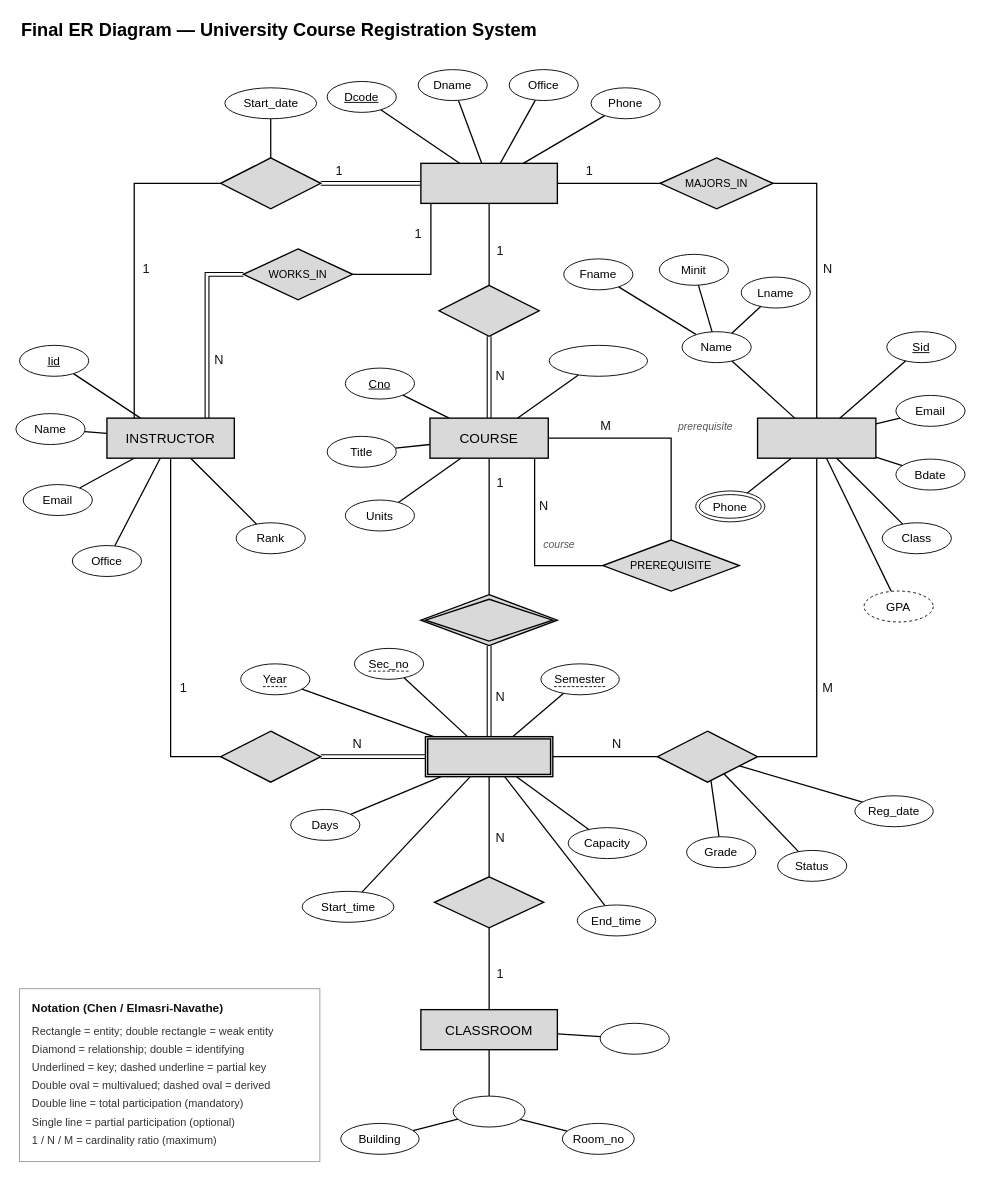
Some shapes in this 981 by 1178 pixel diagram are drawn without their labels. The shapes that lost their labels are listed below. From the top down, each one's box as (x1, y1, x2, y2) in pixels, then its label:
(220, 157, 321, 209): CHAIRS
(420, 162, 558, 204): DEPARTMENT
(438, 284, 539, 337): OFFERS
(548, 344, 648, 376): Description
(756, 417, 876, 458): STUDENT
(420, 594, 558, 646): HAS_SECTION
(220, 730, 321, 782): TEACHES
(424, 736, 553, 777): SECTION
(656, 730, 758, 782): ENROLLS
(433, 876, 544, 928): MEETS_IN
(599, 1022, 669, 1054): Seats
(452, 1095, 525, 1127): Room_id
